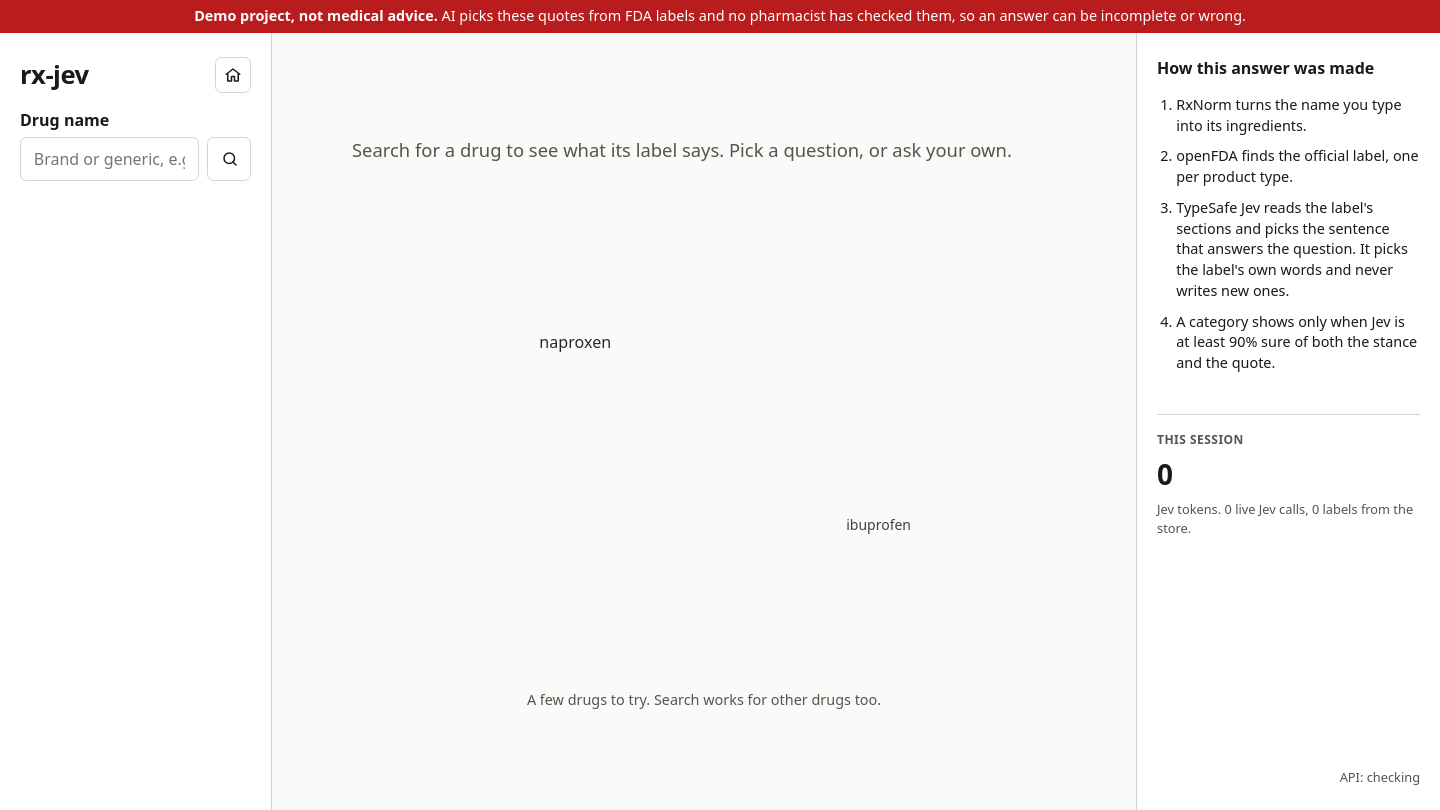
Test: App › lists the questions in the sidebar and answers in the main area
Type "Advil" into the dropdown labelled "Drug name" at [110, 159], box [20, 137, 199, 180]
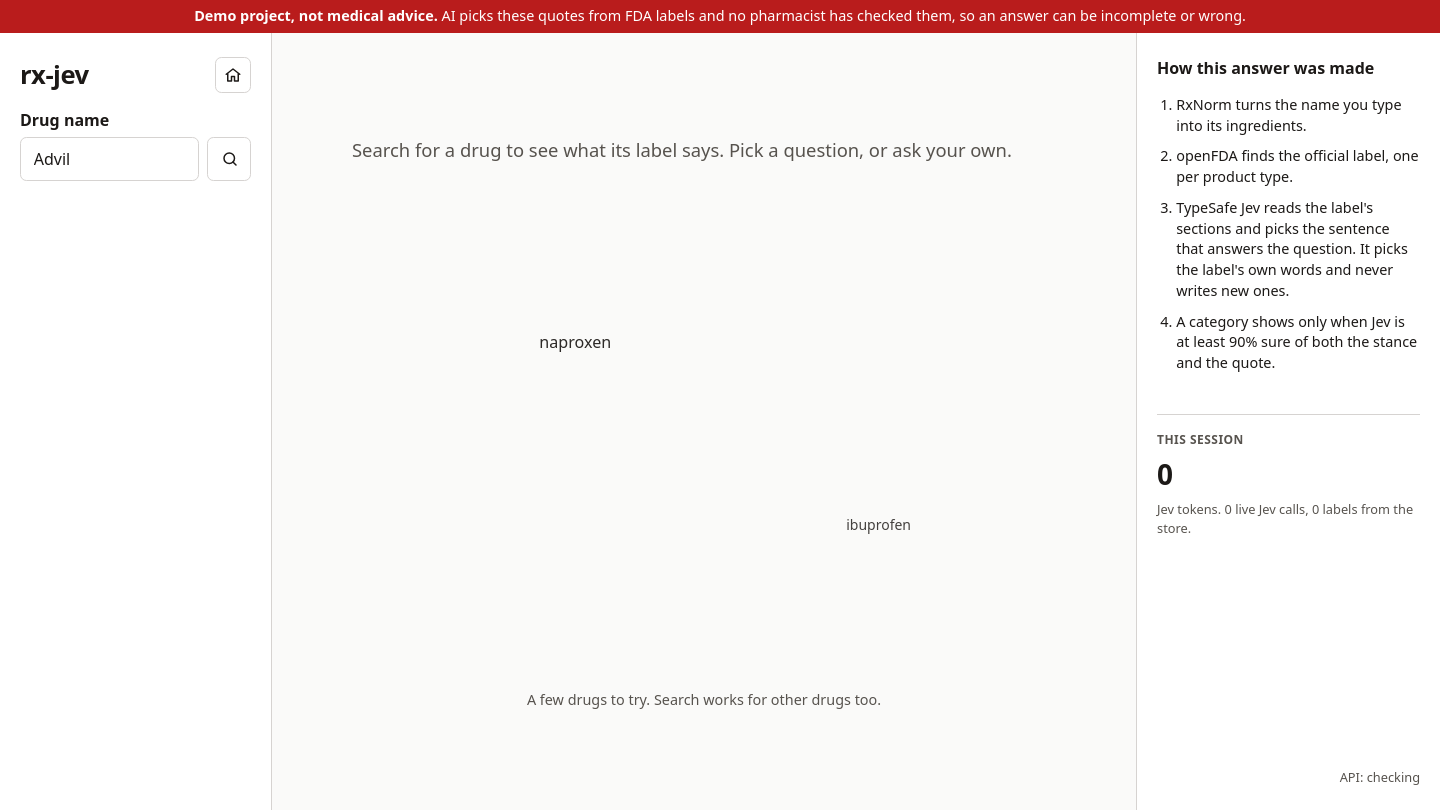
Submit the form, box [20, 109, 251, 180]
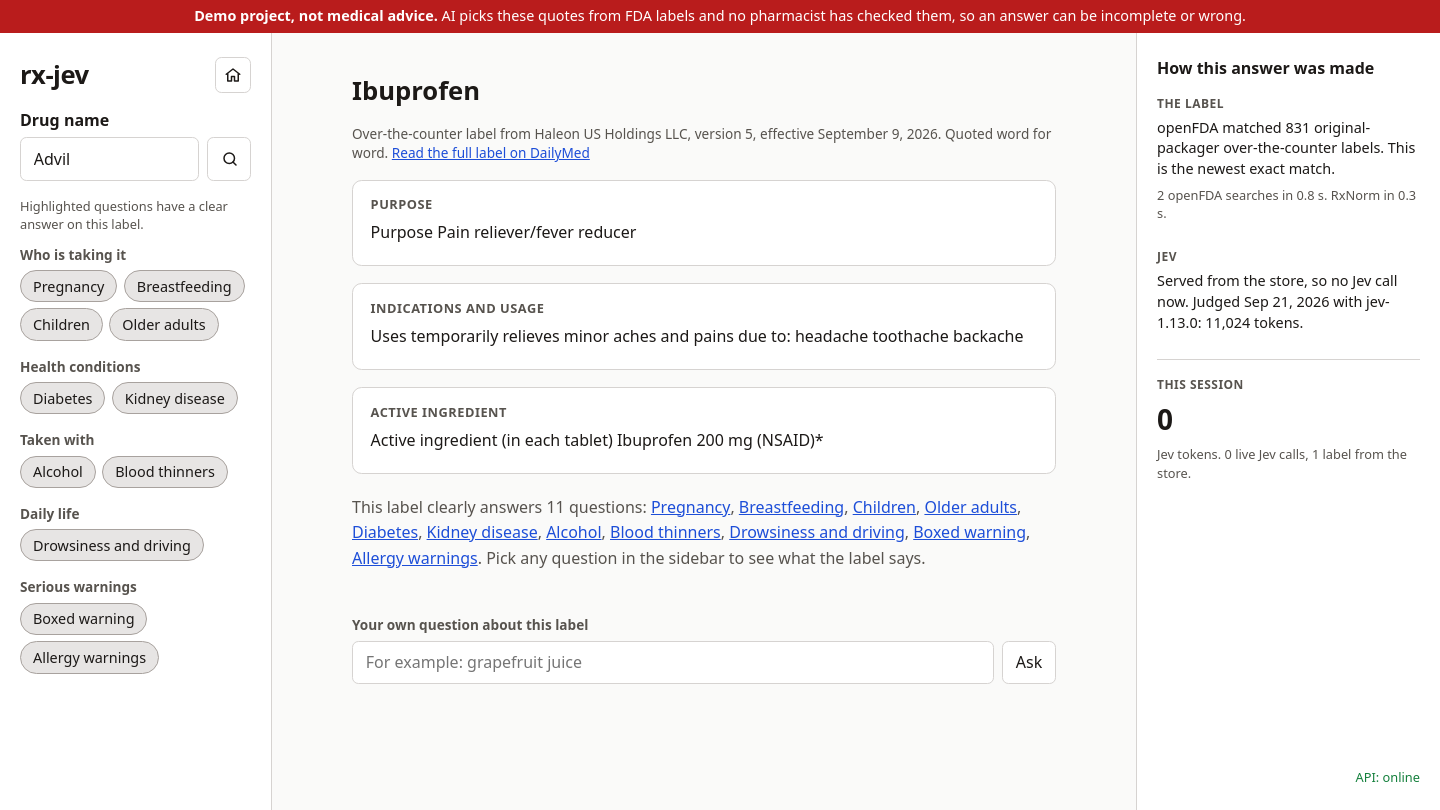
Click the button "Pregnancy" below "Who is taking it" at [69, 286], box [20, 270, 117, 302]
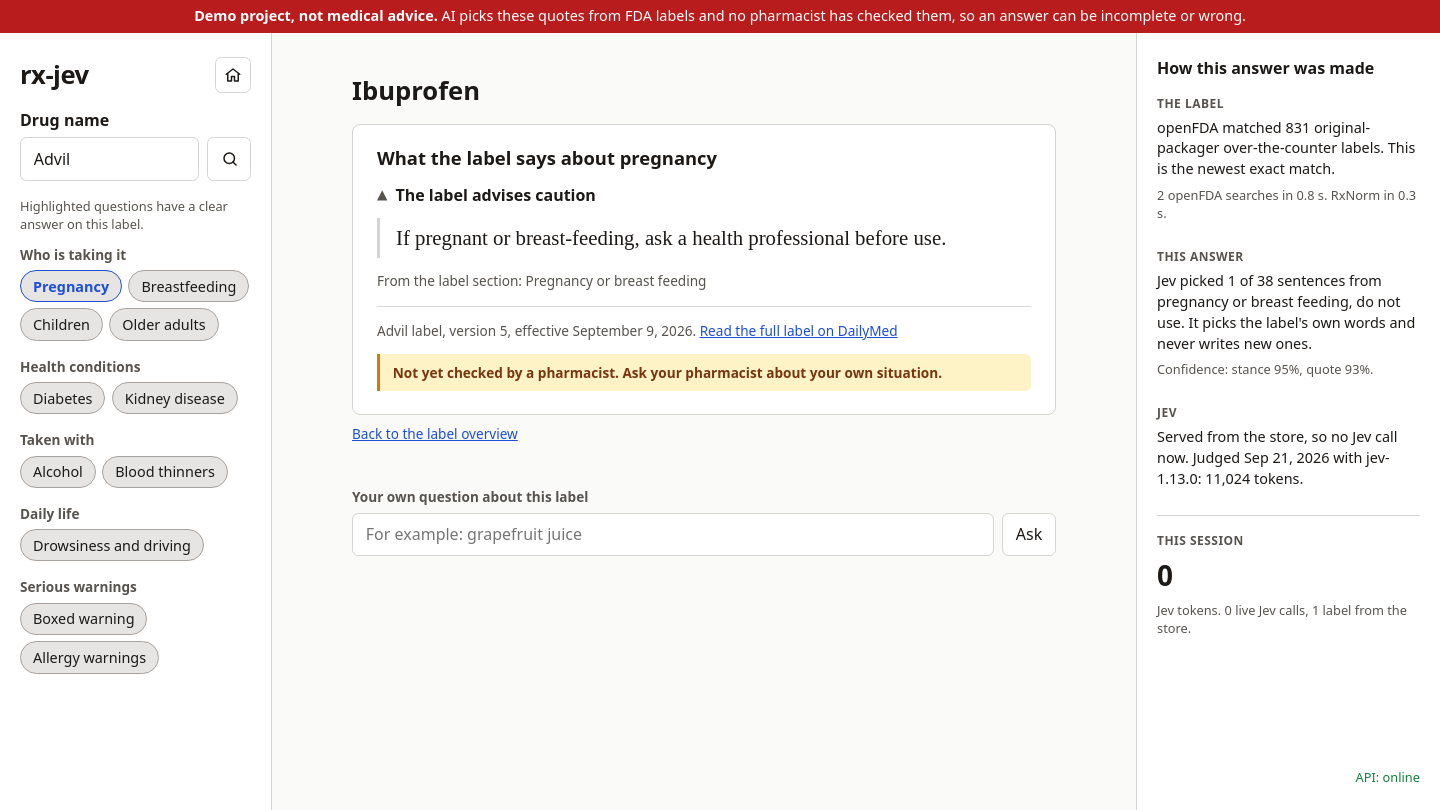
Check: the heading "ibuprofen" is shown, box [352, 73, 480, 108]
Check: the heading "What the label says about pregnancy" is shown, box [377, 145, 717, 170]
